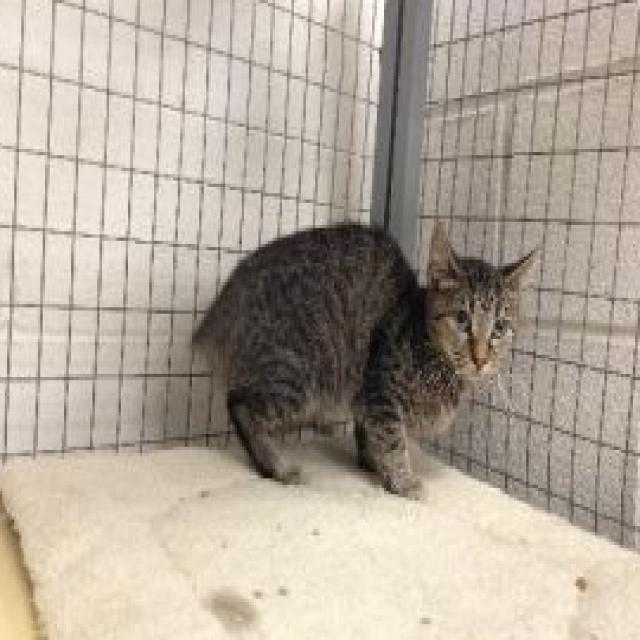American Bobtail: (185, 214, 545, 501)
